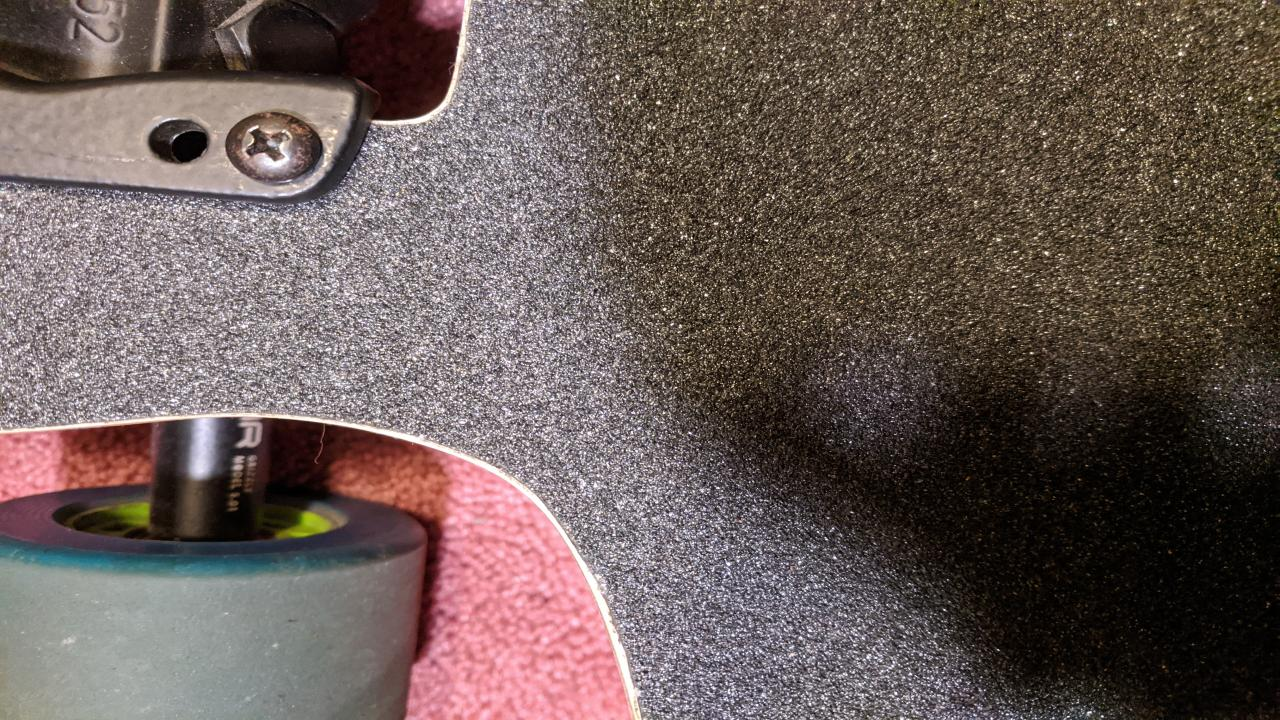CRS: (220, 111, 323, 185)
